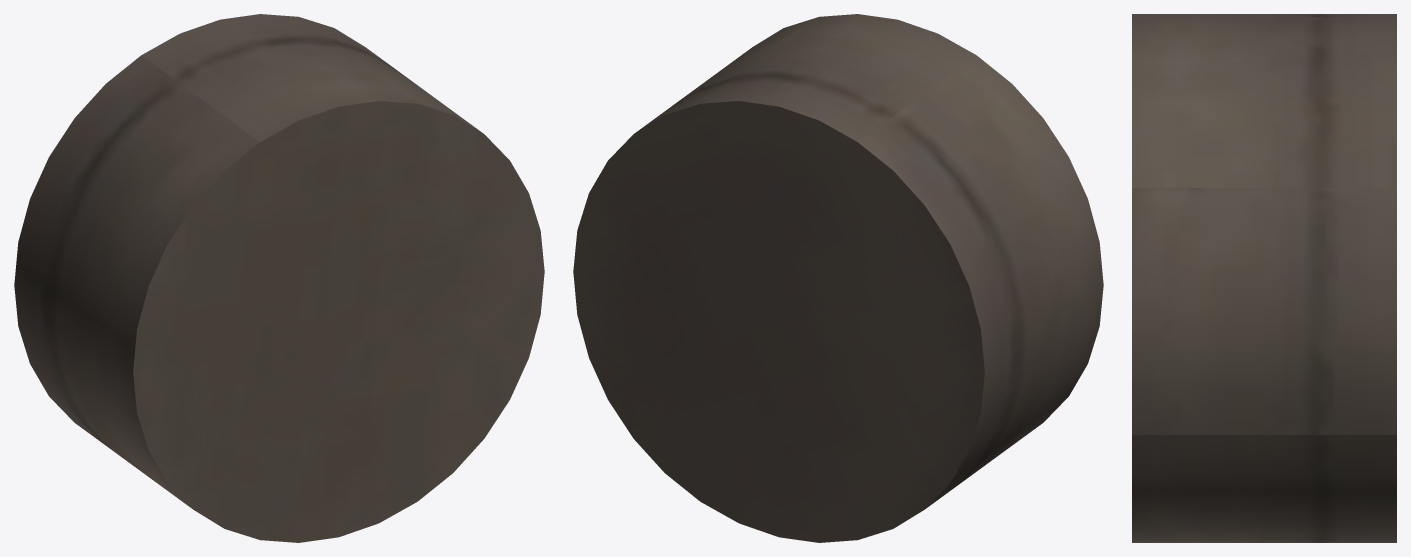
The model's file is time_dial__dial_hub.glb.
3 renders of one model, left to right at view 1: azimuth 30°, elevation 25°; view 2: azimuth 150°, elevation 25°; view 3: azimuth 270°, elevation 25°, orthographic. The views are drawn at different scales.
Parts seen in each view (by area): view 1: geometry_0; view 2: geometry_0; view 3: geometry_0.
Part boxes in pixels (x1,y1,x2,y2): geometry_0: (14,14,544,542); geometry_0: (573,14,1103,542); geometry_0: (1132,14,1396,542).
Bounding box in the file's own units: 0.02 × 0.02 × 0.01.
Materials: 1 (1 with a texture image).
